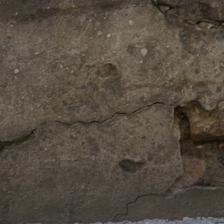Crack: (0, 76, 188, 203), (124, 121, 224, 175), (31, 9, 61, 95)
